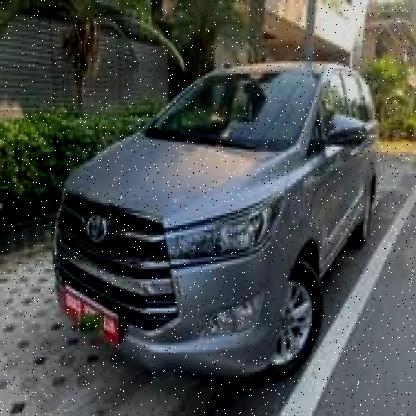car: (45, 56, 386, 388)
